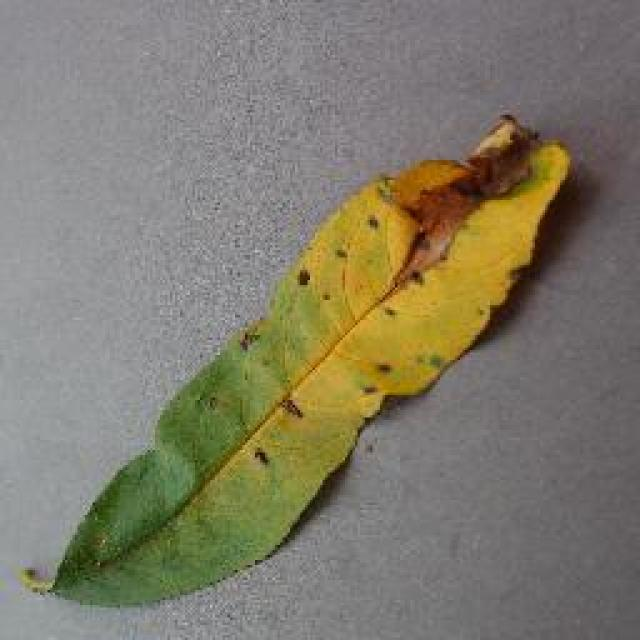Peach_Bacterial_Spot: (265, 168, 528, 388)
